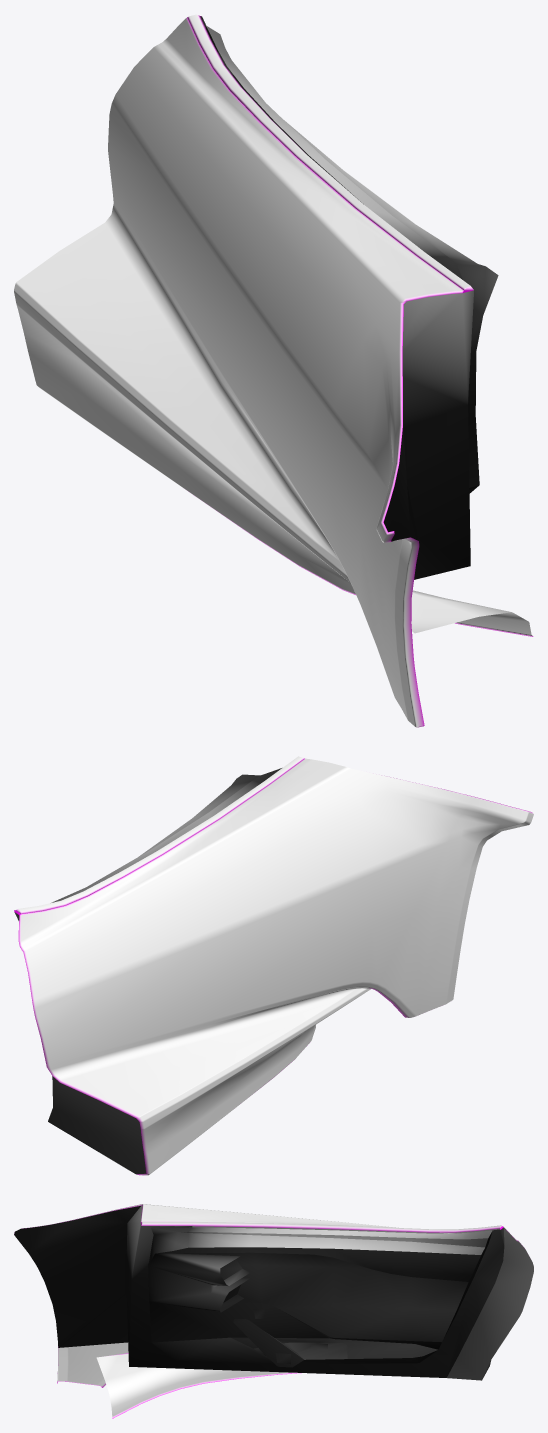
Rendered from Car_Ford_GT_2017_DoorR_SetE.fbx.
3 views of the same model, one above another, from view 1: azimuth 30°, elevation 25°; view 2: azimuth 150°, elevation 25°; view 3: azimuth 270°, elevation 25° (orthographic). The views are drawn at different scales.
Visible parts, largest first — view 1: DoorR 6; view 2: DoorR 6; view 3: DoorR 6.
Boxes of the visible parts, x1,y1,x2,y2 form: DoorR 6: [14, 14, 533, 727]; DoorR 6: [14, 756, 533, 1175]; DoorR 6: [14, 1204, 533, 1418].
Size of the model in its own units: 0.512 by 0.66 by 1.52.
